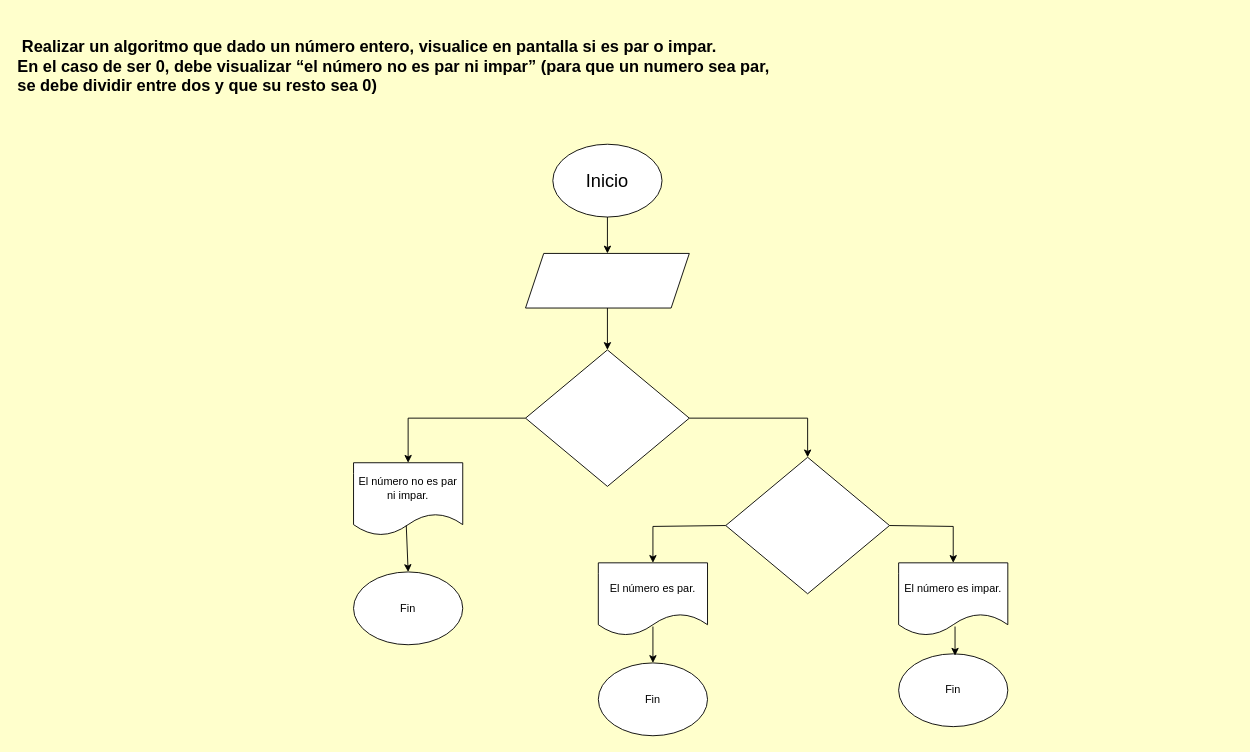
Some shapes in this 1250 by 752 pixel diagram are drawn without their labels. The centre of each missing label's shape, as x and y in pixels:
Ingrese el numero: [607,280]
numero % 2 == 0: [807,525]
numero == 0: [607,417]
